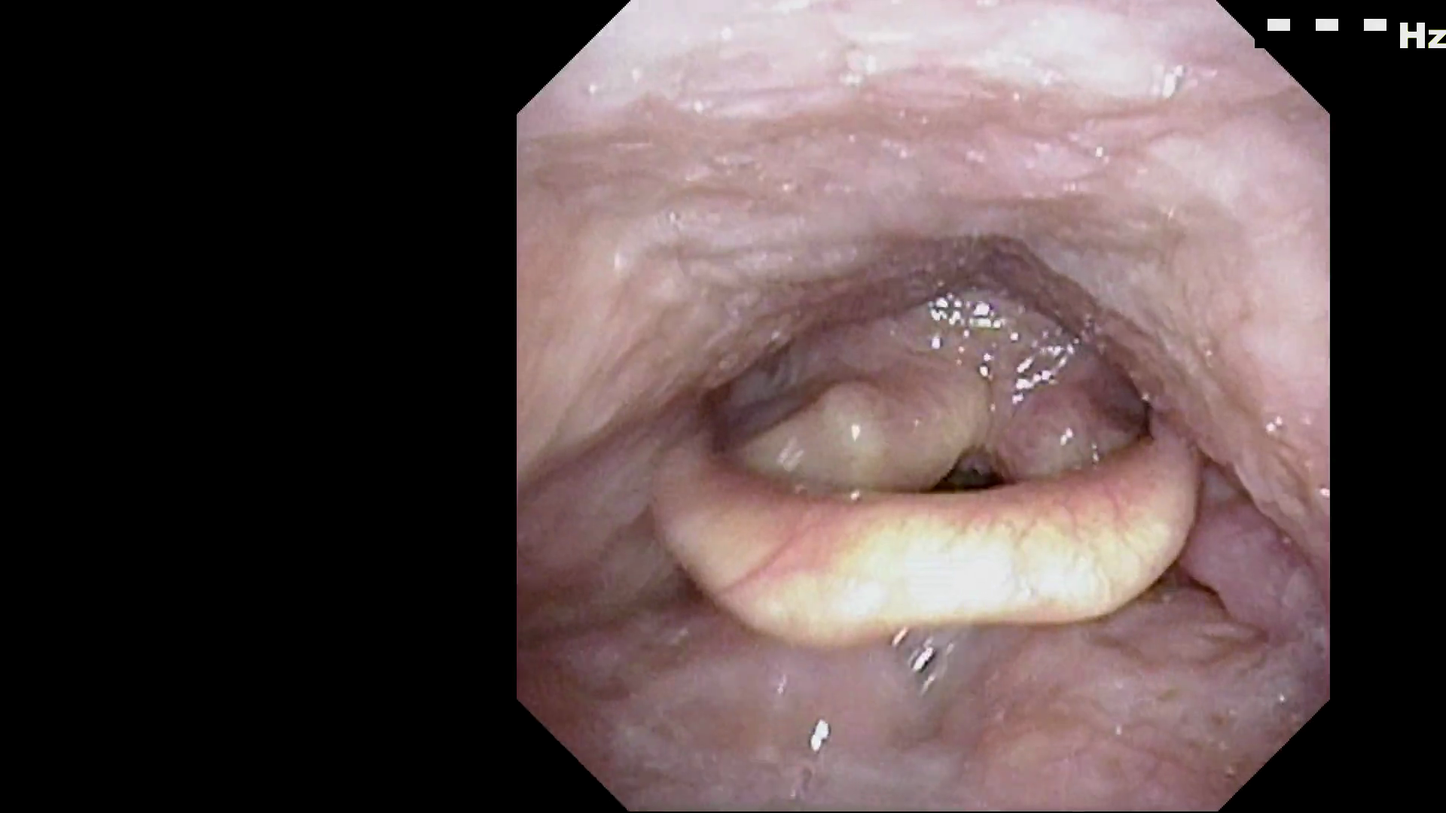epiglottis: (655, 407, 1219, 663)
trachea: (934, 437, 1014, 524)
